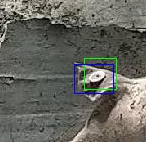text: (84, 58, 116, 89)
